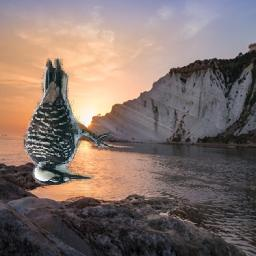Woodpecker: (20, 59, 116, 186)
